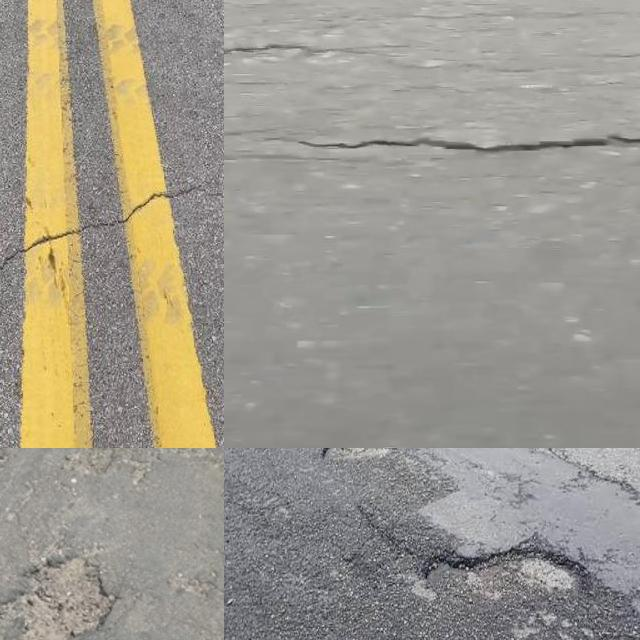Lubang: (0, 558, 117, 640), (419, 545, 594, 593), (318, 448, 402, 462)
Melintang: (0, 168, 224, 281), (224, 116, 640, 169)
